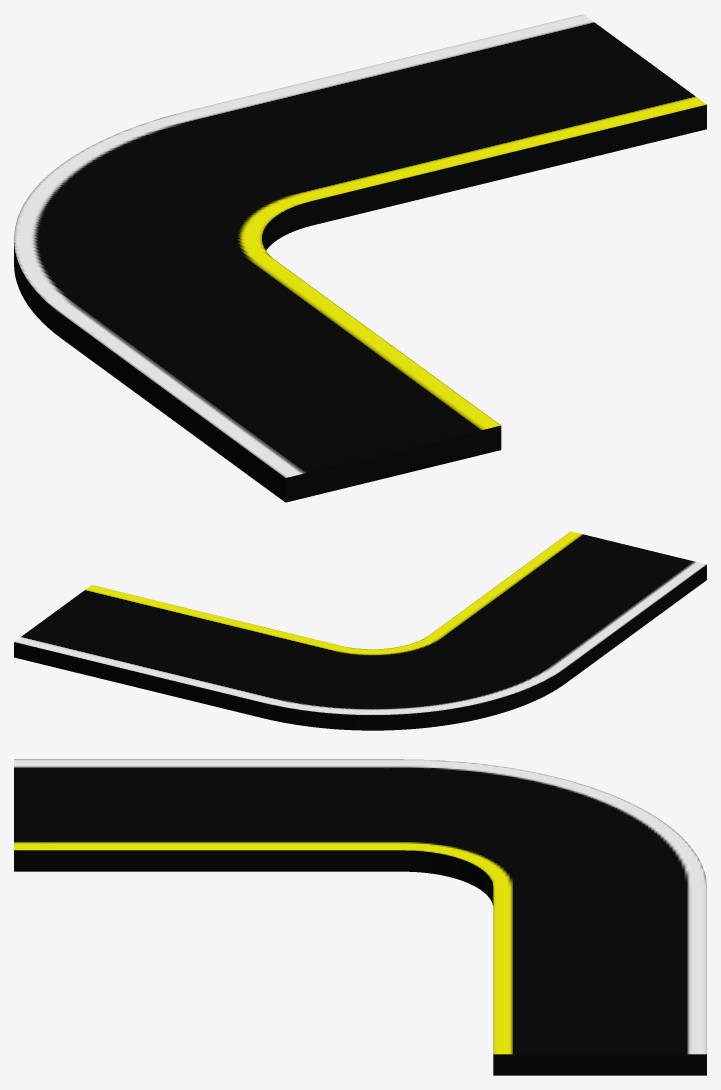
The model's file is Panel_R01_C01__Road_00.dae.
The picture shows the model from 3 angles, top to bottom: view 1: azimuth 30°, elevation 25°; view 2: azimuth 150°, elevation 25°; view 3: azimuth 270°, elevation 25°; orthographic projection. The views are drawn at different scales.
Visible parts, largest first — view 1: Object; view 2: Object; view 3: Object.
Boxes of the visible parts, x1=… form: Object: x1=14, y1=14, x2=706, y2=502; Object: x1=14, y1=531, x2=706, y2=730; Object: x1=14, y1=759, x2=706, y2=1075.
Bounding box in the file's own units: 0.8918 × 0.886 × 0.03.
Materials: 2 (1 with a texture image).
